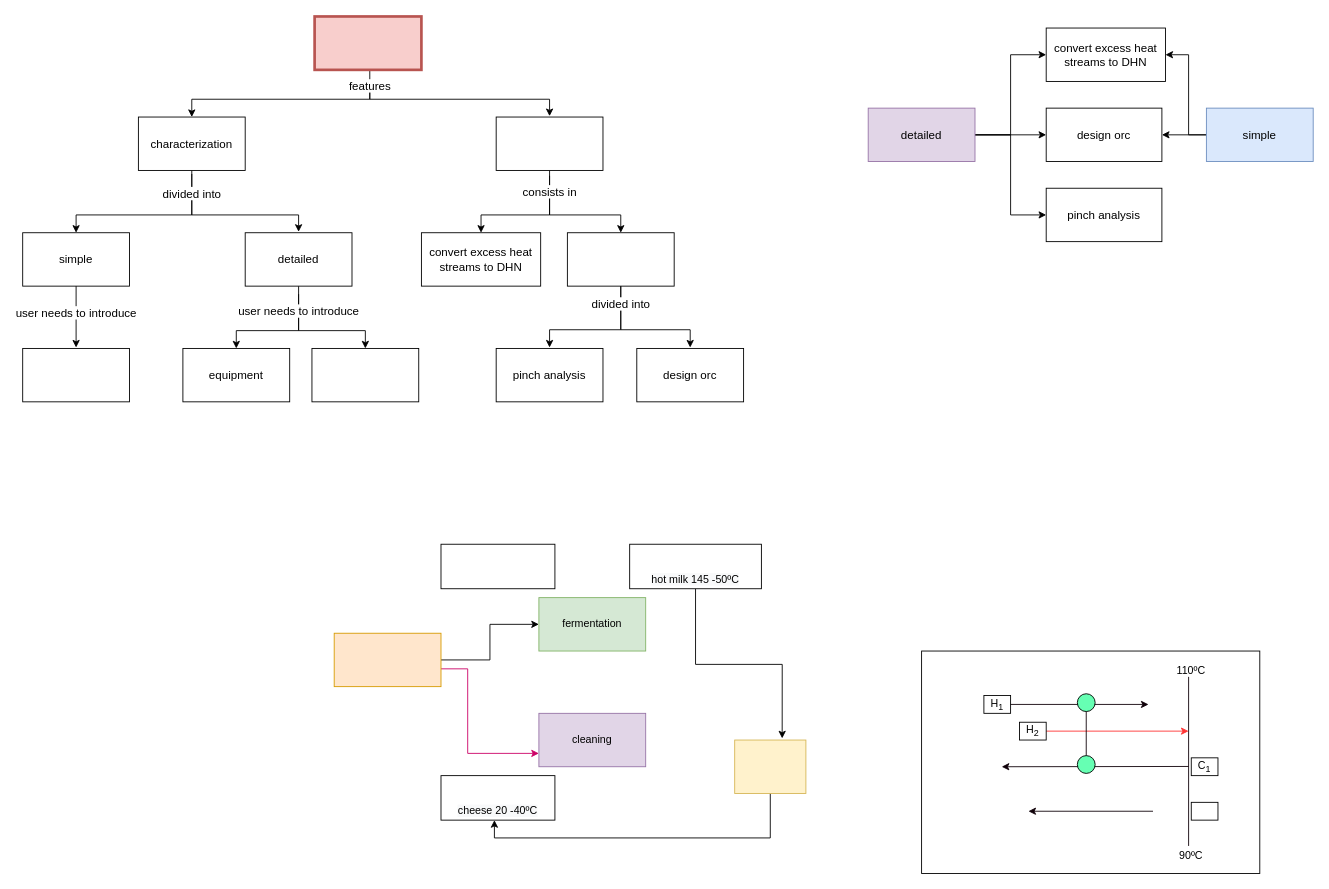
This 1329x889 diagram has some shape labels left out. Each missing label, with the box of its shape:
boiler: (333, 632, 441, 687)
C 2: (1190, 801, 1218, 820)
HX: (734, 739, 806, 793)
internal heat recovery: (566, 232, 674, 286)
milk 20 -145ºC: (440, 543, 555, 589)
processes: (311, 348, 419, 402)
simulation: (495, 116, 603, 170)
Source: (313, 15, 422, 71)
streams: (22, 348, 129, 402)
